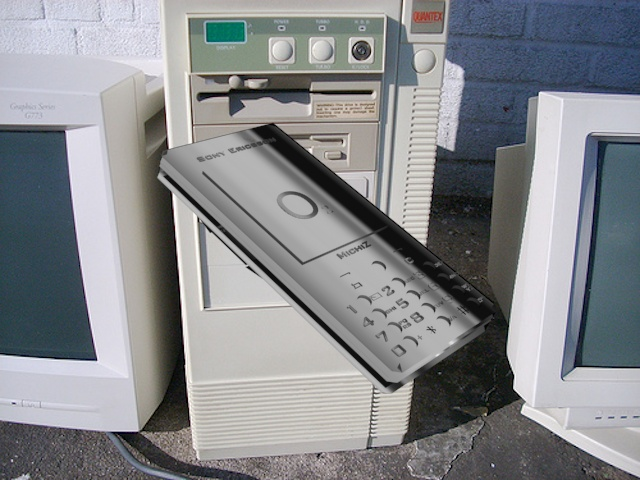mobile_phone: (153, 121, 504, 400)
